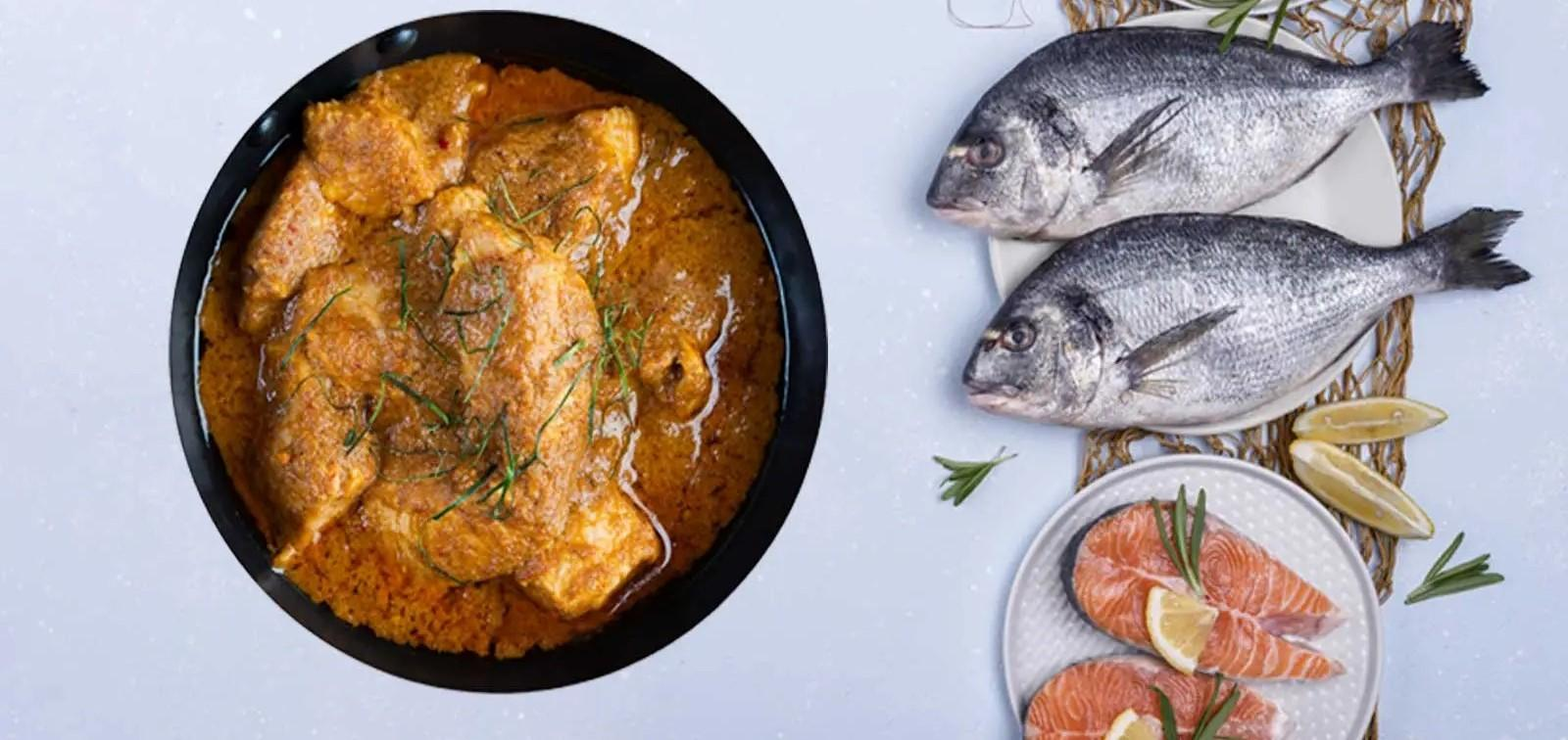FishCurry: (187, 52, 790, 662)
